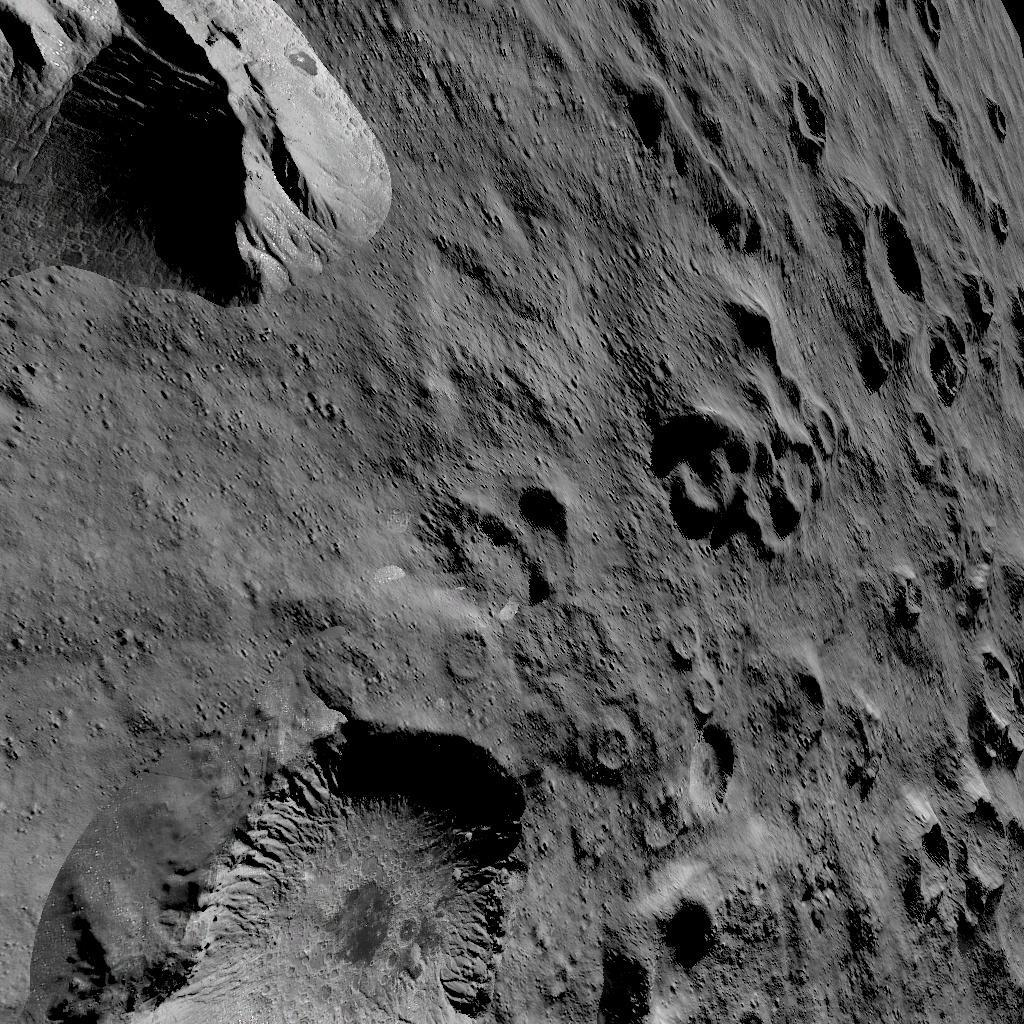Boulders: (0, 2, 408, 306)
Crater: (59, 712, 557, 1024), (653, 398, 853, 556), (437, 482, 591, 614), (909, 790, 1024, 958), (667, 620, 756, 828), (605, 890, 740, 1024), (845, 190, 936, 382), (947, 278, 1018, 401), (973, 644, 1024, 766), (779, 666, 840, 756), (785, 66, 842, 156), (906, 411, 964, 481), (589, 722, 648, 785), (443, 624, 501, 688), (923, 0, 965, 42), (991, 92, 1024, 144), (999, 196, 1024, 250)
Plan surface: (0, 320, 424, 696), (437, 2, 629, 462)
